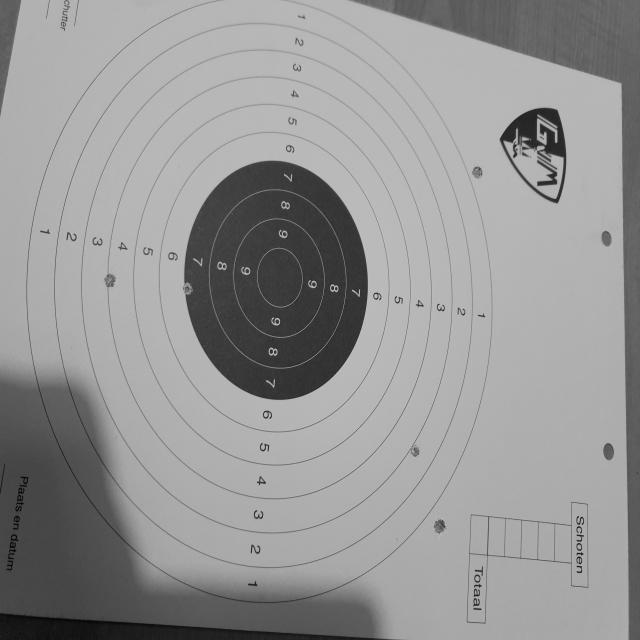0: (431, 516, 449, 538), (472, 163, 484, 181)
3: (409, 442, 422, 462)
4: (103, 271, 118, 291)
7: (182, 279, 195, 299)
Target: (24, 4, 492, 604)
black_contour: (185, 158, 368, 402)
